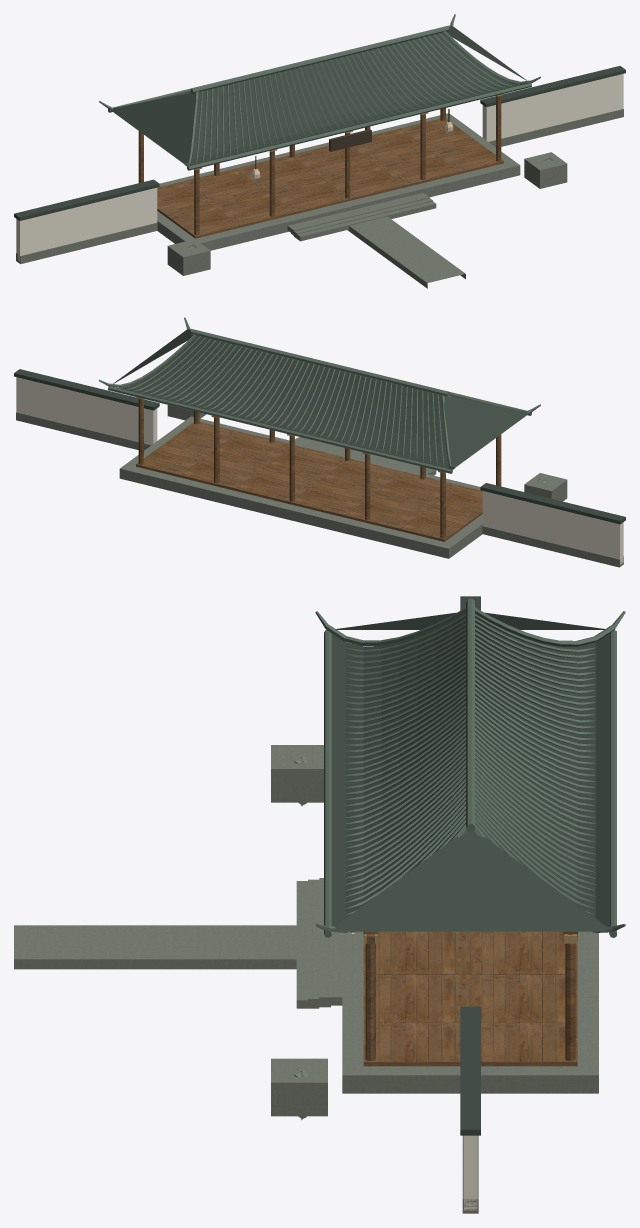
File: daguanyuan_gate.glb
The picture shows the model from 3 angles, top to bottom: view 1: azimuth 30°, elevation 25°; view 2: azimuth 150°, elevation 25°; view 3: azimuth 270°, elevation 25°; orthographic projection. The views are drawn at different scales.
Parts seen in each view (by area): view 1: daguanyuan_gate_roof, daguanyuan_gate_wood, daguanyuan_gate_stone, daguanyuan_gate_tile, daguanyuan_gate_plaster, daguanyuan_gate_darkwood; view 2: daguanyuan_gate_roof, daguanyuan_gate_wood, daguanyuan_gate_stone, daguanyuan_gate_tile, daguanyuan_gate_plaster; view 3: daguanyuan_gate_roof, daguanyuan_gate_tile, daguanyuan_gate_stone, daguanyuan_gate_wood, daguanyuan_gate_plaster.
Part boxes in pixels (box(x1,y1,x2,y2)): daguanyuan_gate_roof: box(14, 26, 625, 220); daguanyuan_gate_wood: box(138, 96, 503, 238); daguanyuan_gate_stone: box(16, 109, 623, 288); daguanyuan_gate_tile: box(99, 14, 540, 170); daguanyuan_gate_plaster: box(16, 74, 623, 261); daguanyuan_gate_darkwood: box(255, 109, 449, 169); daguanyuan_gate_roof: box(14, 329, 625, 524); daguanyuan_gate_wood: box(136, 399, 501, 541); daguanyuan_gate_stone: box(16, 405, 623, 567); daguanyuan_gate_tile: box(99, 317, 540, 473); daguanyuan_gate_plaster: box(16, 377, 623, 564); daguanyuan_gate_roof: box(331, 596, 610, 1135); daguanyuan_gate_tile: box(315, 598, 625, 937); daguanyuan_gate_stone: box(14, 745, 598, 1213); daguanyuan_gate_wood: box(363, 931, 577, 1066); daguanyuan_gate_plaster: box(464, 1135, 477, 1210).
Bounding box in the file's own units: 44.2 × 9.57 × 21.44.
8 materials, 2 textured.
